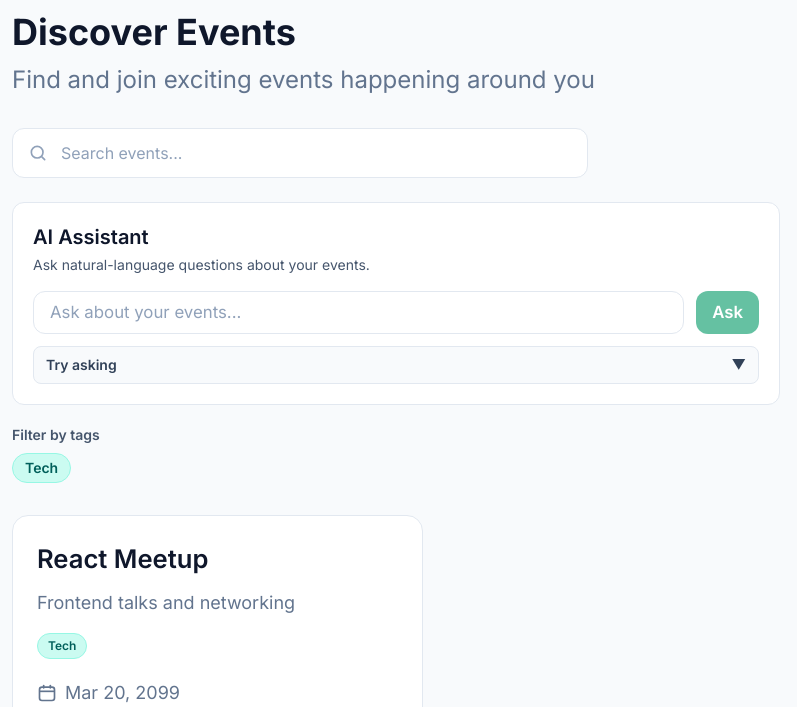
Scenario: EventsPage › shows predefined assistant suggestions and fills input on click
Expected: the heading "React Meetup" is shown, 37,543 -> 208,574
Click the button "Try asking ▼" at (81, 365), box 33,346 -> 759,384
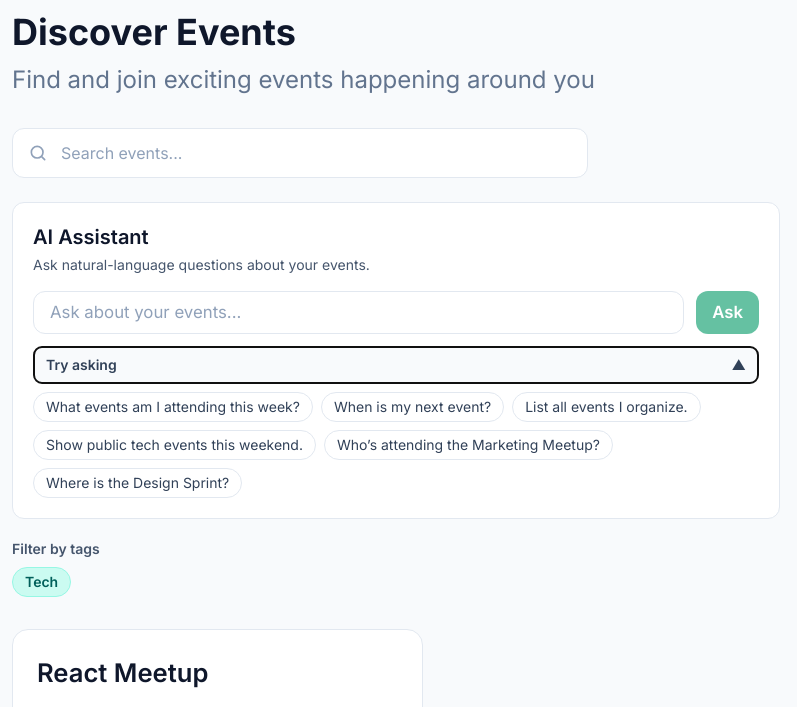
Expected: the button "When is my next event?" is shown
Click the button "When is my next event?" at (412, 407), box 321,392 -> 504,422
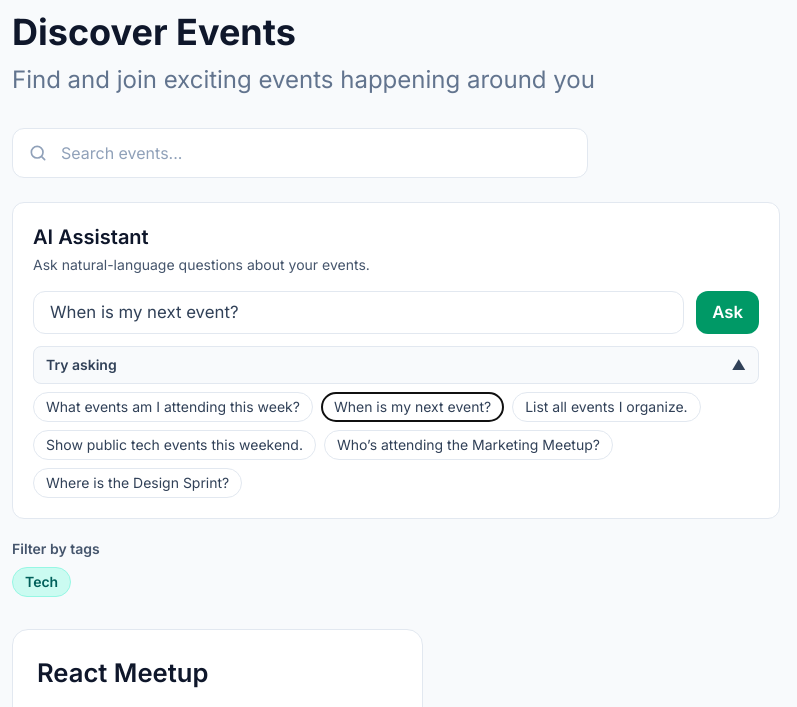
Expected: the field with placeholder "Ask about your events..." holds "When is my next event?", 33,291 -> 684,334
